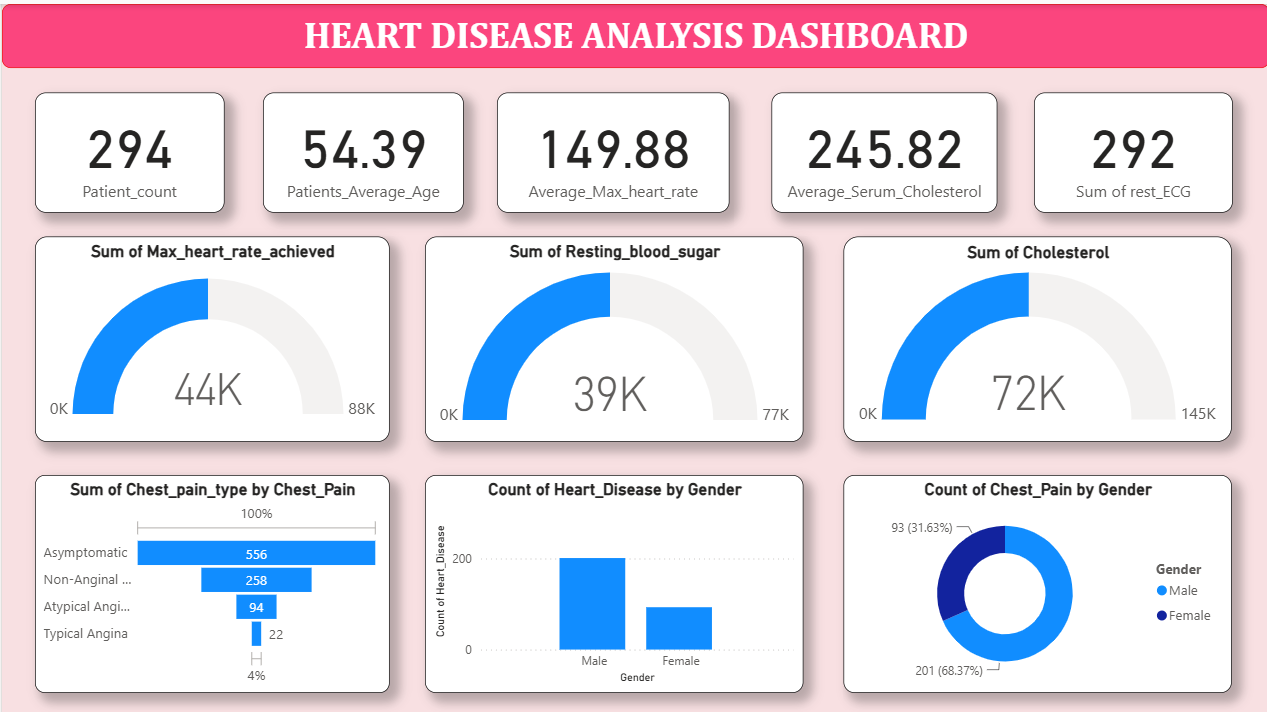

The page's visual inventory and layout, read from the dashboard file:
{"tool":"powerbi","page":{"name":"Analysis i","canvas":[1280,720],"ordinal":0},"visuals":[{"type":"textbox","box":[0,0,1280.8,64.8],"z":0},{"type":"card","fields":{"Values":["Measure.Patient_count"]},"box":[34,89.1,191.1,121.4],"z":1000},{"type":"card","fields":{"Values":["Measure.Patient_Average_Age"]},"box":[263.9,89.1,202.4,121.4],"z":2000},{"type":"card","fields":{"Values":["Measure.Average_Max_heart_rate"]},"box":[500.3,89.1,234.8,121.4],"z":3000},{"type":"card","fields":{"Values":["Measure.Average_Serum_Cholesterol"]},"box":[777.2,89.1,228.3,121.4],"z":4000},{"type":"card","fields":{"Values":["Measure.Sum of rest_ECG"]},"box":[1041.2,89.1,200.8,121.4],"z":5000},{"type":"gauge","fields":{"Y":["Sum(Heart Disease Diagnostic.Max_heart_rate_achieved)"]},"box":[34,234.8,357.8,207.3],"z":6000},{"type":"gauge","fields":{"Y":["Sum(Heart Disease Diagnostic.Cholesterol)"]},"box":[850.1,234.8,391.9,207.3],"z":7000},{"type":"gauge","fields":{"Y":["Sum(Heart Disease Diagnostic.Resting_blood_sugar)"]},"box":[427.5,234.8,382.1,207.3],"z":8000},{"type":"funnel","fields":{"Category":["Heart Disease Diagnostic.Chest_Pain"],"Y":["Sum(Heart Disease Diagnostic.Chest_pain_type)"]},"box":[34,476.1,357.8,220.2],"z":9000},{"type":"donutChart","fields":{"Category":["Heart Disease Diagnostic.Gender"],"Y":["CountNonNull(Heart Disease Diagnostic.Chest_Pain)"]},"box":[850.1,476.1,391.9,220.2],"z":10000},{"type":"columnChart","fields":{"Category":["Heart Disease Diagnostic.Gender"],"Y":["CountNonNull(Heart Disease Diagnostic.Heart_Disease)"]},"box":[427.5,476.1,382.1,220.2],"z":11000}]}

Visuals, with their boxes in screenshot pixels (x1, y1, x2, y2), scaled from the page's 1280x720 canvas onto the 1267x712 screenshot:
textbox: pyautogui.locateOnScreen(0, 0, 1266, 64)
card - Measure.Patient_count: pyautogui.locateOnScreen(34, 88, 223, 208)
card - Measure.Patient_Average_Age: pyautogui.locateOnScreen(261, 88, 462, 208)
card - Measure.Average_Max_heart_rate: pyautogui.locateOnScreen(495, 88, 728, 208)
card - Measure.Average_Serum_Cholesterol: pyautogui.locateOnScreen(769, 88, 995, 208)
card - Measure.Sum of rest_ECG: pyautogui.locateOnScreen(1031, 88, 1229, 208)
gauge - Sum(Heart Disease Diagnostic.Max_heart_rate_achieved): pyautogui.locateOnScreen(34, 232, 388, 437)
gauge - Sum(Heart Disease Diagnostic.Cholesterol): pyautogui.locateOnScreen(841, 232, 1229, 437)
gauge - Sum(Heart Disease Diagnostic.Resting_blood_sugar): pyautogui.locateOnScreen(423, 232, 801, 437)
funnel - Heart Disease Diagnostic.Chest_Pain x Sum(Heart Disease Diagnostic.Chest_pain_type): pyautogui.locateOnScreen(34, 471, 388, 689)
donutChart - Heart Disease Diagnostic.Gender x CountNonNull(Heart Disease Diagnostic.Chest_Pain): pyautogui.locateOnScreen(841, 471, 1229, 689)
columnChart - Heart Disease Diagnostic.Gender x CountNonNull(Heart Disease Diagnostic.Heart_Disease): pyautogui.locateOnScreen(423, 471, 801, 689)
